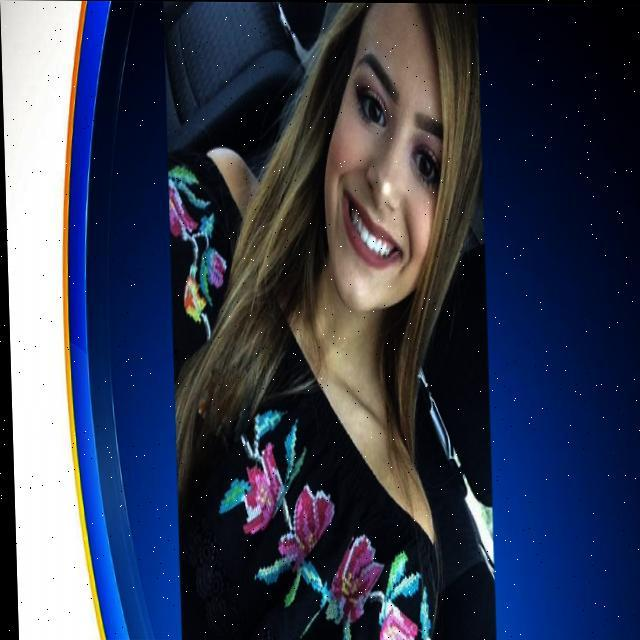noSeatbelt: (168, 134, 434, 640)
